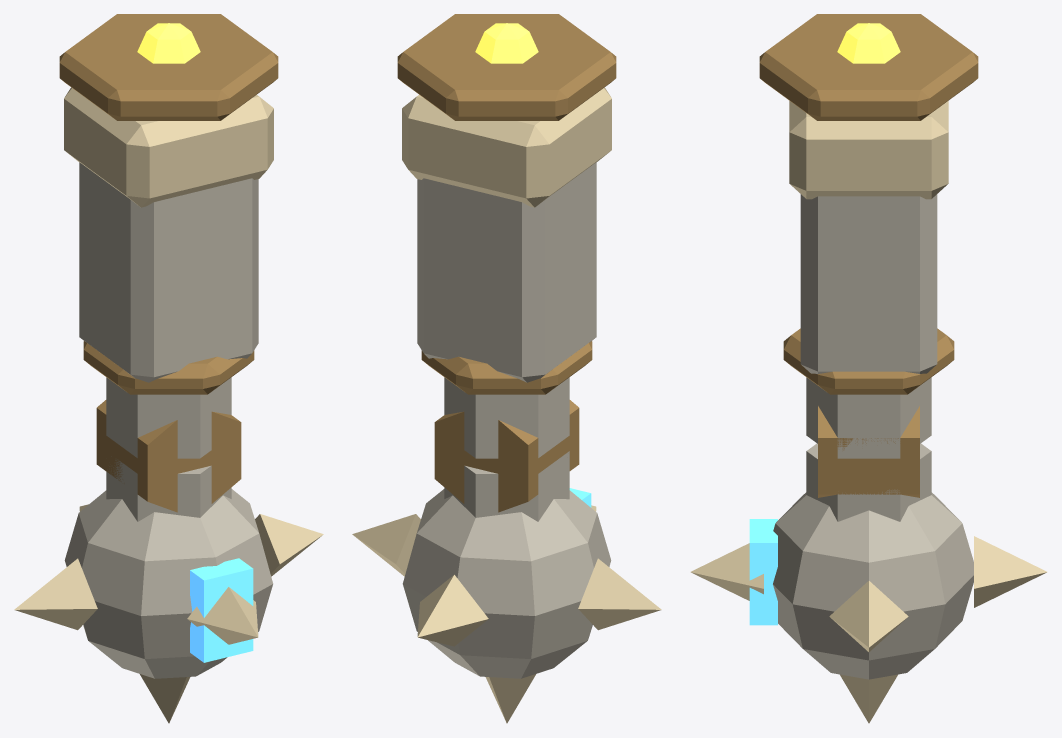
File: arm_flail.glb
The picture shows the model from 3 angles, left to right: view 1: azimuth 30°, elevation 25°; view 2: azimuth 150°, elevation 25°; view 3: azimuth 270°, elevation 25°; orthographic projection.
Parts seen in each view (by area): view 1: arm_flail; view 2: arm_flail; view 3: arm_flail.
Boxes of the visible parts, box(x1,y1,x2,y2) form: arm_flail: box(14, 14, 323, 723); arm_flail: box(352, 14, 661, 723); arm_flail: box(690, 14, 1047, 723).
Size of the model in its own units: 0.63 by 1.36 by 0.63.
Materials: 1 (1 with a texture image).
